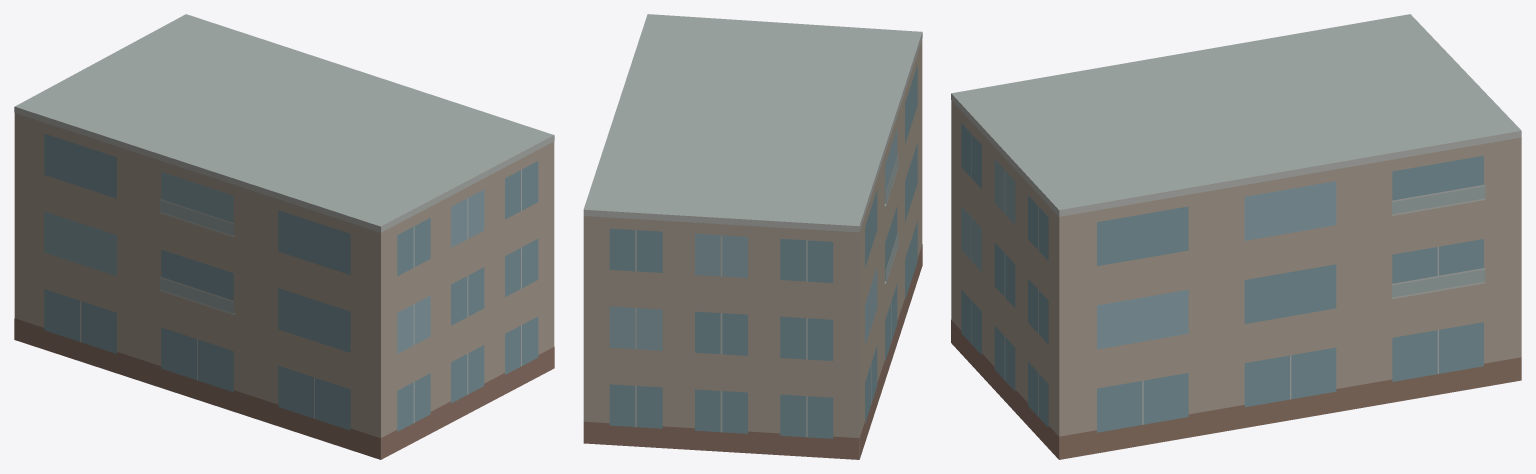
File: survey-upis-32880414.glb
3 views of the same model, side by side, from view 1: azimuth 30°, elevation 25°; view 2: azimuth 150°, elevation 25°; view 3: azimuth 270°, elevation 25° (orthographic). The views are drawn at different scales.
Visible parts, largest first — view 1: survey-upis-32880414.tmp; view 2: survey-upis-32880414.tmp; view 3: survey-upis-32880414.tmp.
Boxes of the visible parts, x1,y1,x2,y2 form: survey-upis-32880414.tmp: (14, 14, 554, 459); survey-upis-32880414.tmp: (583, 14, 922, 459); survey-upis-32880414.tmp: (951, 14, 1521, 459).
Bounding box in the file's own units: 15.43 × 9.15 × 18.96.
